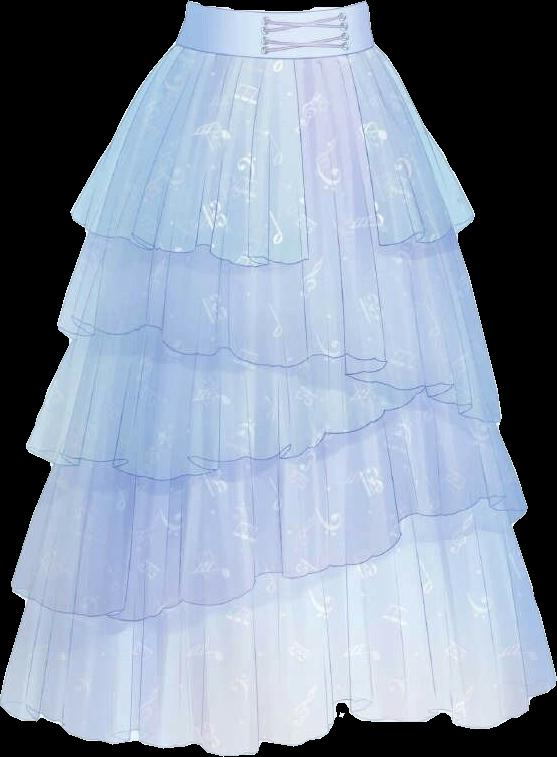Hemline: (10, 488, 527, 622), (55, 313, 502, 427), (67, 61, 311, 269), (0, 677, 556, 756), (26, 390, 421, 482), (346, 53, 475, 248)
Waistline: (173, 38, 380, 62), (187, 0, 366, 17)
